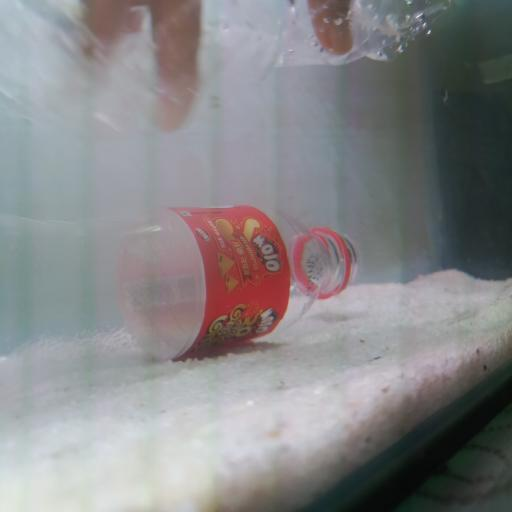plastic_bag: (12, 2, 454, 122)
plastic_bottle: (7, 206, 355, 360)
